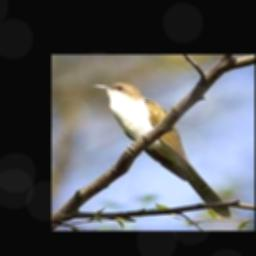Cuckoo: (91, 82, 231, 217)
